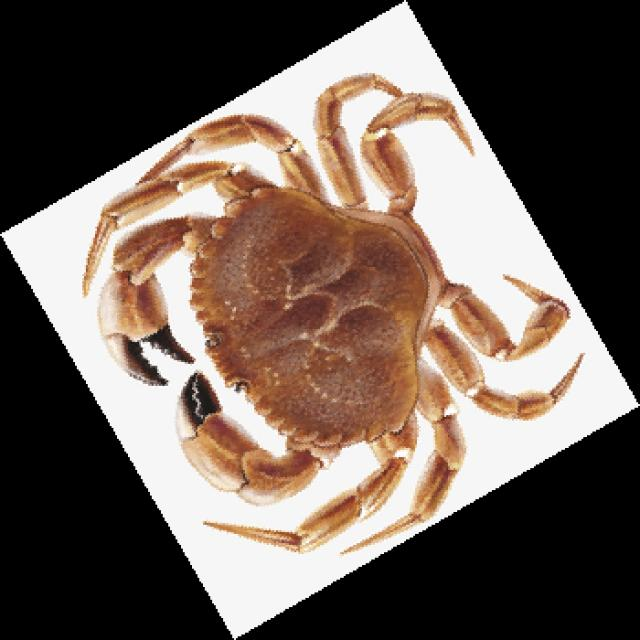Native Rock crab: (83, 74, 586, 556)
